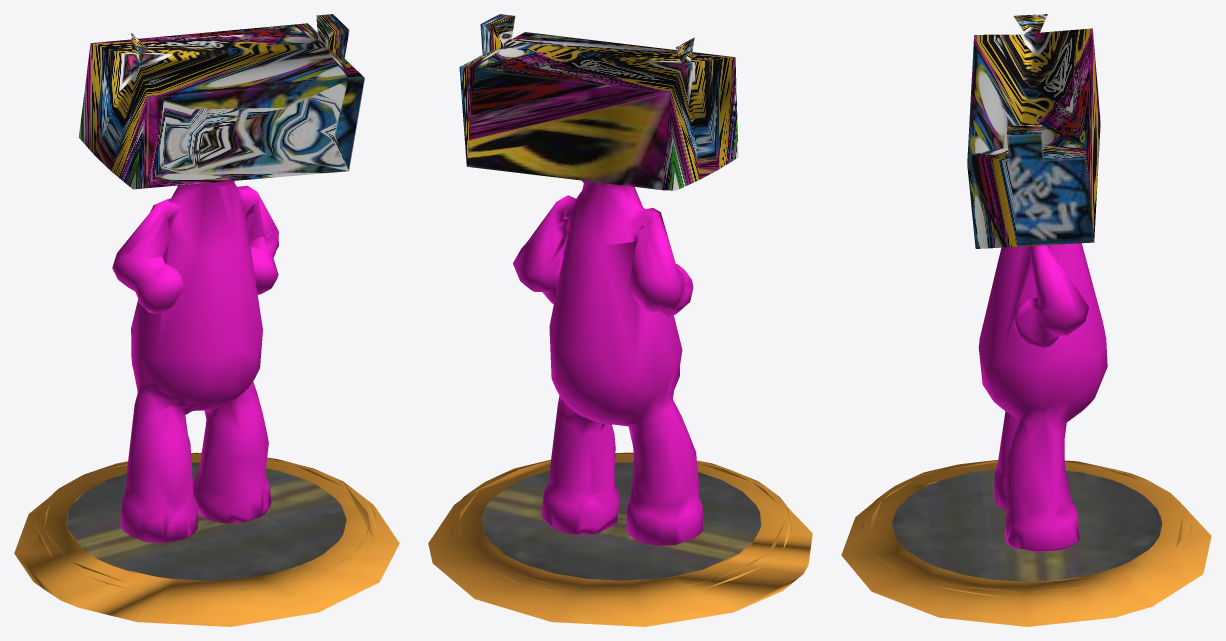
3 views of the same model, side by side, from view 1: azimuth 30°, elevation 25°; view 2: azimuth 150°, elevation 25°; view 3: azimuth 270°, elevation 25° (orthographic). The views are drawn at different scales.
Bounding box in the file's own units: 1.45 × 2.16 × 1.44.
4 materials, 3 textured.
